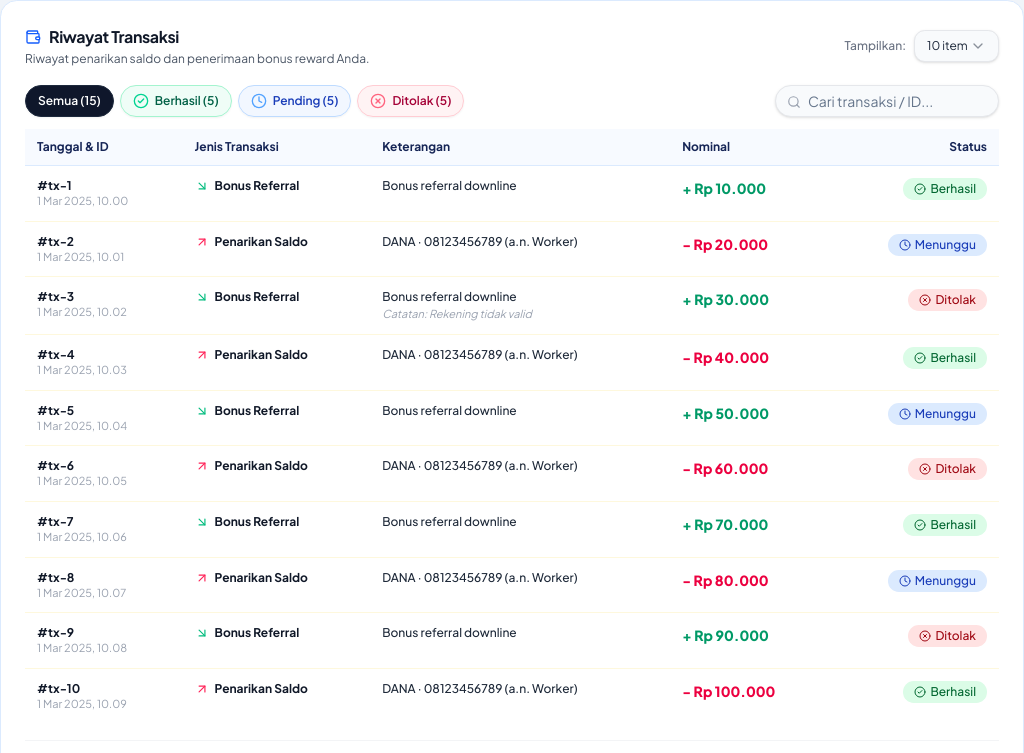
TransactionHistory Component › filters transactions by search query input
Type "tx-3" into the field with placeholder "Cari transaksi / ID..." at (887, 101), box x1=775 y1=85 x2=999 y2=117
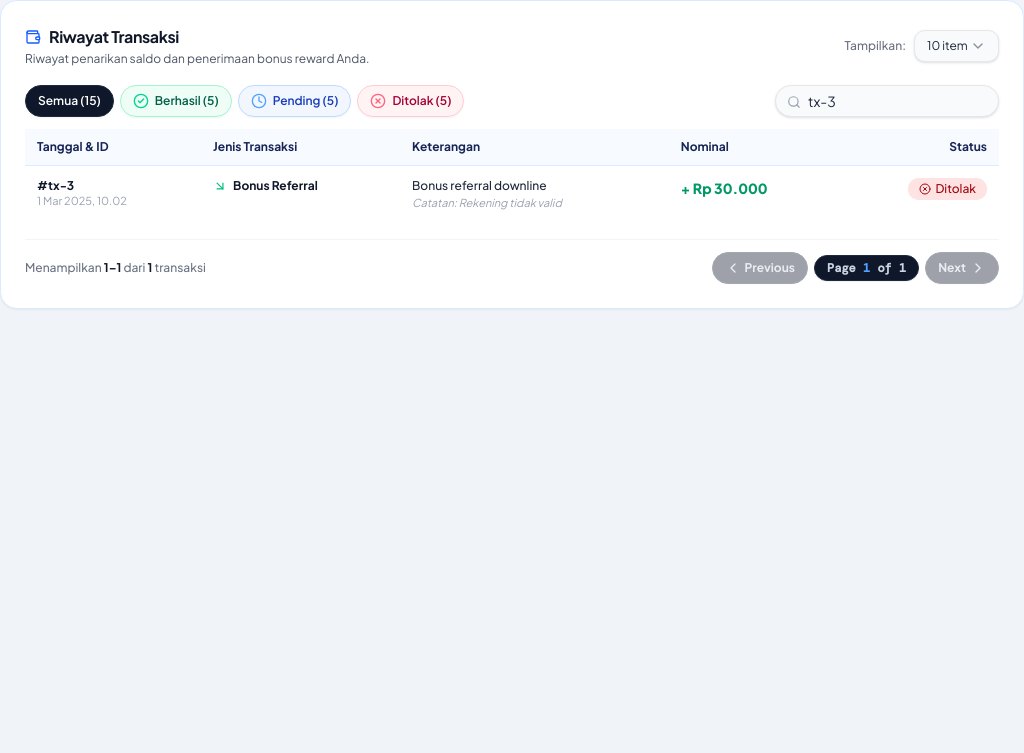
Expected: the text "Catatan: Rekening tidak valid" is shown, x1=412 y1=196 x2=562 y2=209
Expected: the element with test id "pagination-page-indicator" reads "Page 1 of 1", x1=814 y1=255 x2=919 y2=281
